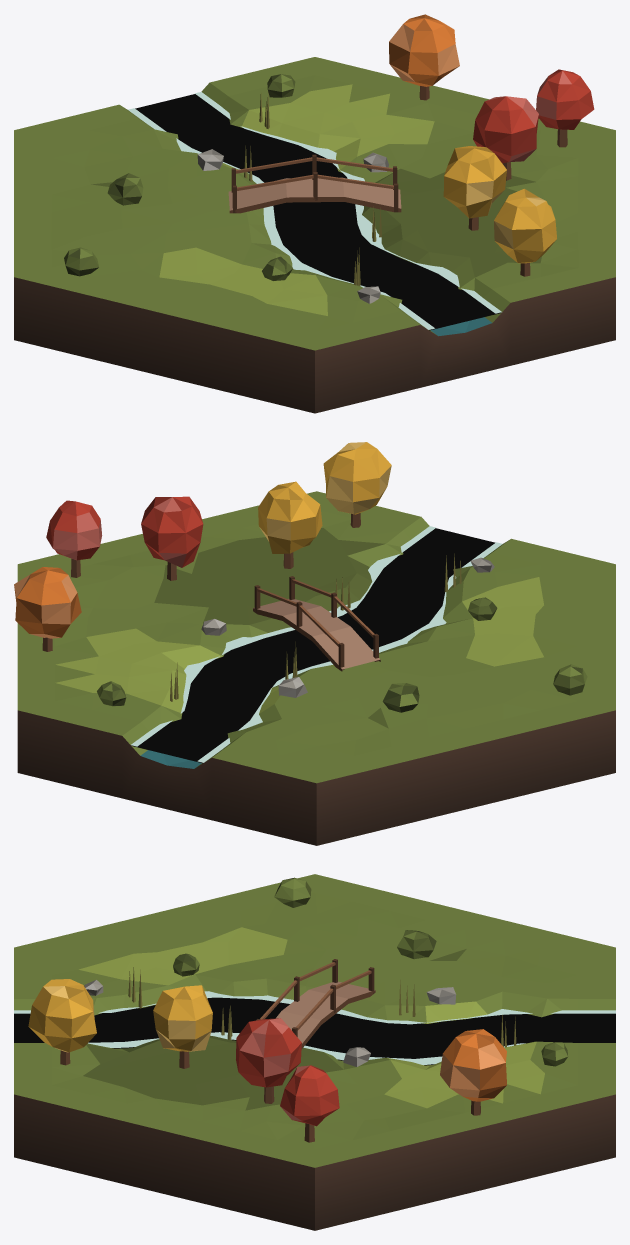
File: SM_Tile_River_Straight.fbx
The picture shows the model from 3 angles, top to bottom: view 1: azimuth 30°, elevation 25°; view 2: azimuth 150°, elevation 25°; view 3: azimuth 270°, elevation 25°; orthographic projection.
Visible parts, largest first — view 1: SM_Tile_River_Straight; view 2: SM_Tile_River_Straight; view 3: SM_Tile_River_Straight.
Boxes of the visible parts, left/top/right/bottom form: SM_Tile_River_Straight: left=14, top=14, right=615, bottom=413; SM_Tile_River_Straight: left=14, top=442, right=615, bottom=845; SM_Tile_River_Straight: left=14, top=874, right=615, bottom=1230.
Bounding box in the file's own units: 20 × 4.64 × 17.32.
